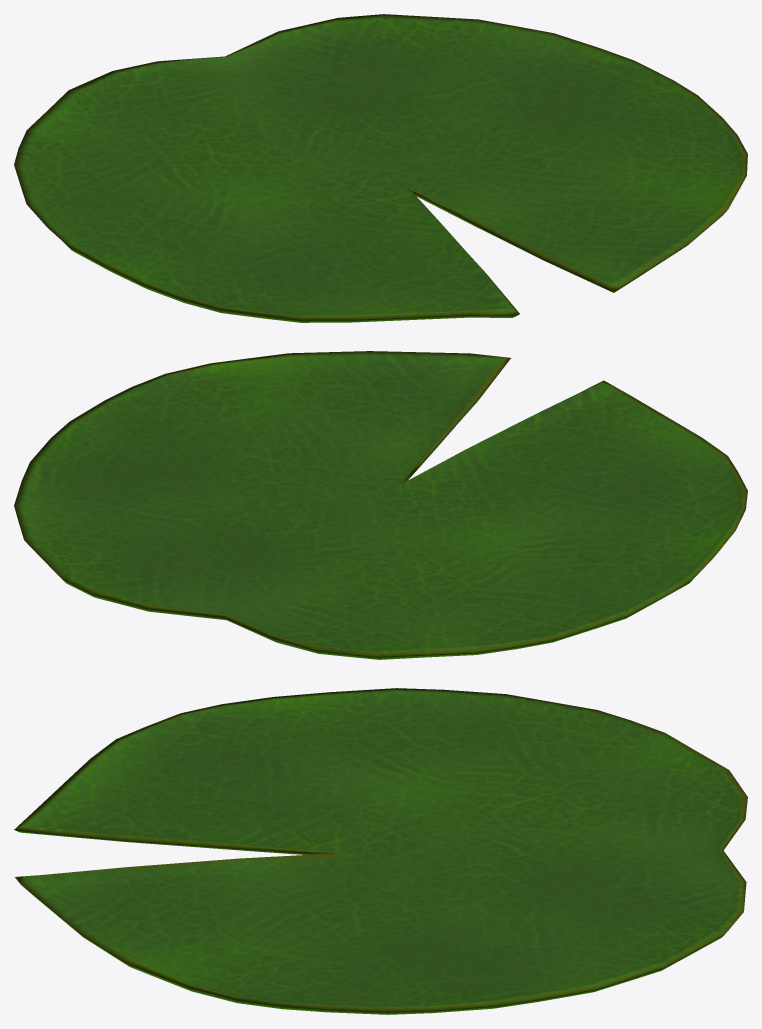
The model's file is lily pad.fbx.
The picture shows the model from 3 angles, top to bottom: view 1: azimuth 30°, elevation 25°; view 2: azimuth 150°, elevation 25°; view 3: azimuth 270°, elevation 25°; orthographic projection. The views are drawn at different scales.
Parts seen in each view (by area): view 1: defaultMaterial; view 2: defaultMaterial; view 3: defaultMaterial.
Boxes of the visible parts, x1,y1,x2,y2 form: defaultMaterial: (14, 14, 747, 322); defaultMaterial: (14, 351, 747, 659); defaultMaterial: (14, 688, 747, 1014).
Bounding box in the file's own units: 58.1 × 0.6515 × 55.99.
Materials: 1 (1 with a texture image).
